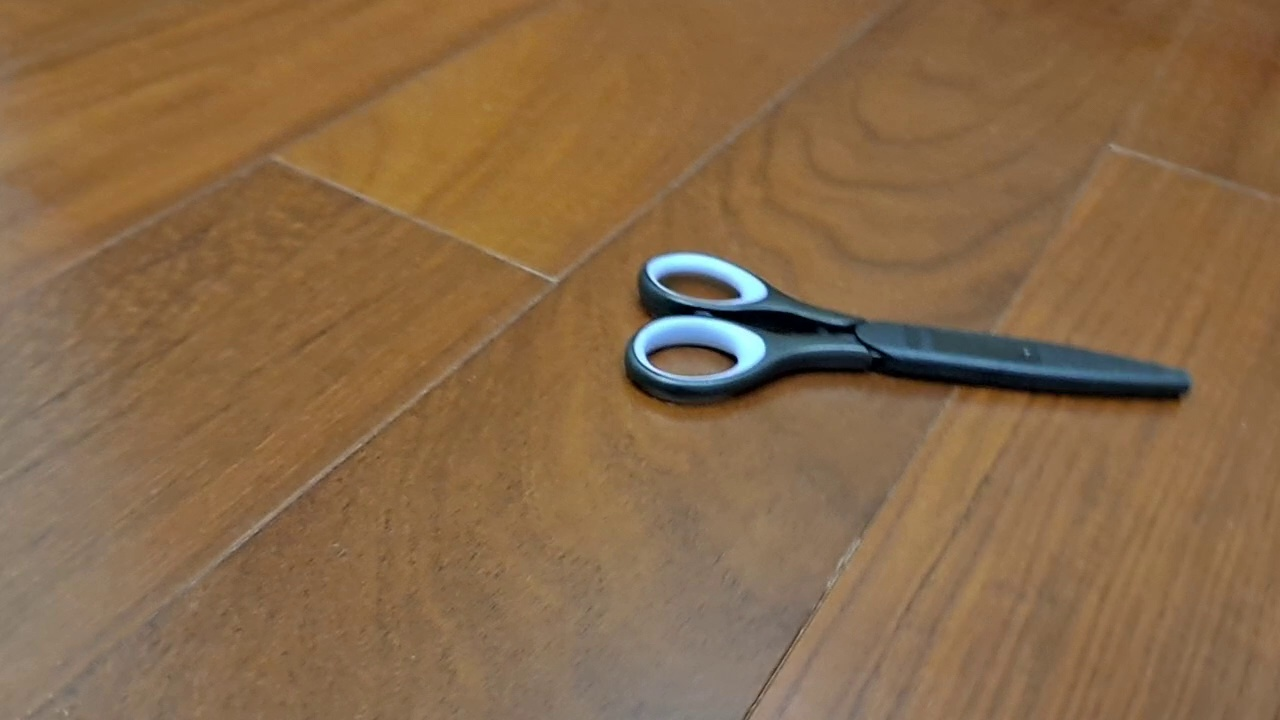scissors: (622, 249, 1194, 410)
